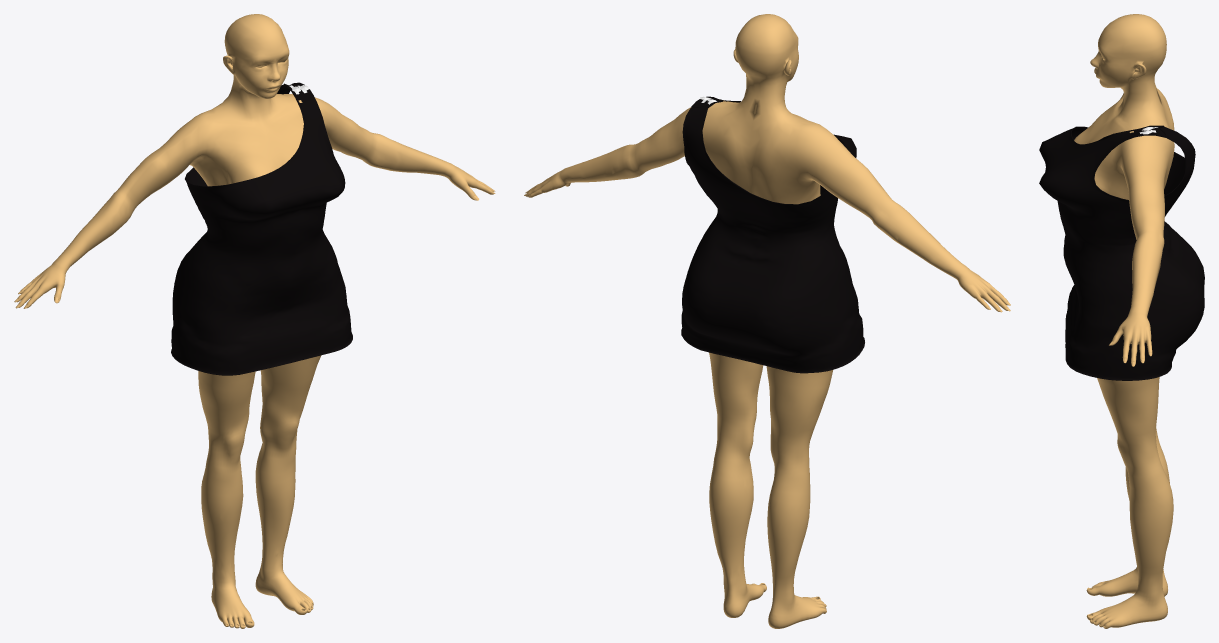
File: dress6.glb
3 views of the same model, side by side, from view 1: azimuth 30°, elevation 25°; view 2: azimuth 150°, elevation 25°; view 3: azimuth 270°, elevation 25° (orthographic).
Parts seen in each view (by area): view 1: Body.003, WhiteDress; view 2: Body.003, WhiteDress; view 3: Body.003, WhiteDress.
Boxes of the visible parts, bbox=[...] form: Body.003: bbox=[17, 14, 494, 628]; WhiteDress: bbox=[171, 82, 352, 375]; Body.003: bbox=[525, 14, 1008, 628]; WhiteDress: bbox=[681, 96, 864, 373]; Body.003: bbox=[1074, 14, 1174, 628]; WhiteDress: bbox=[1039, 125, 1204, 380].
Size of the model in its own units: 1.58 by 1.85 by 0.4695.
